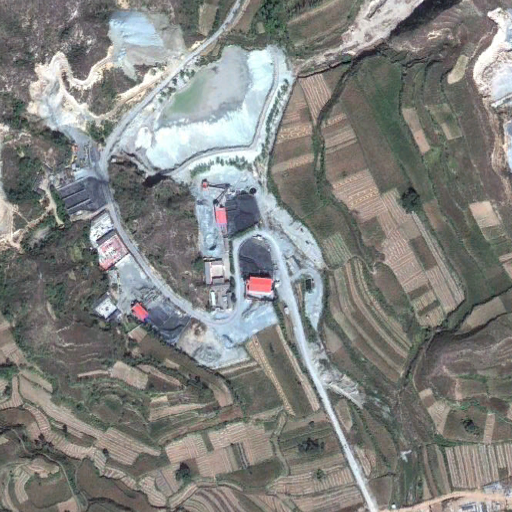tp: (112, 42, 287, 177)
